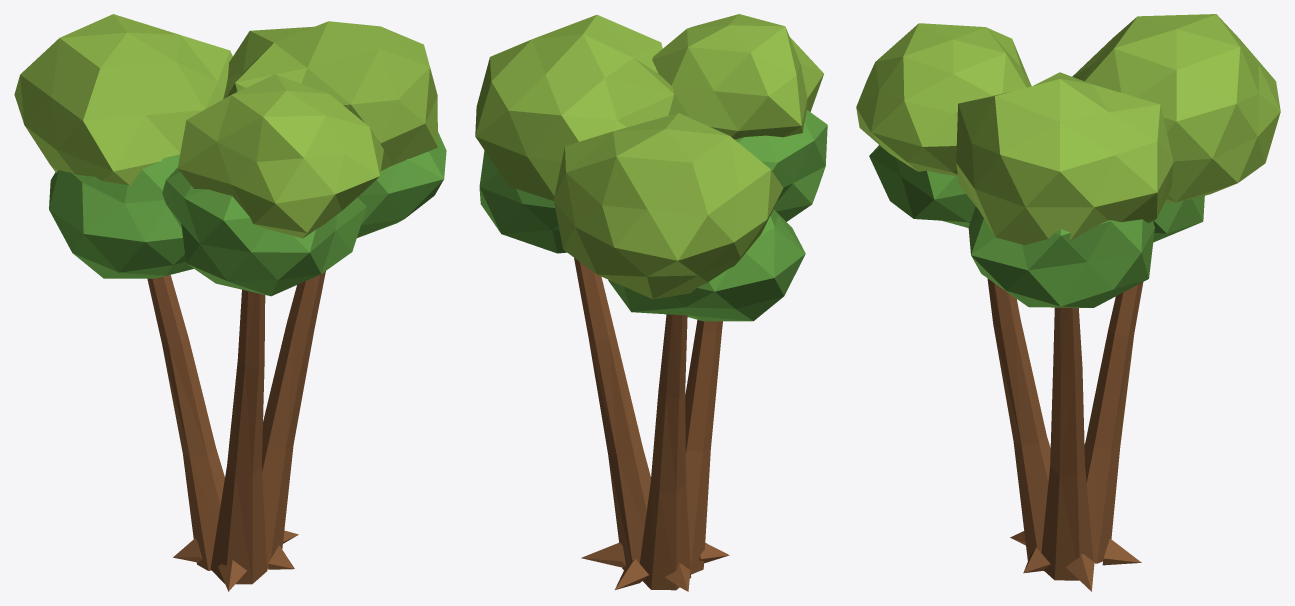
File: HS_LP_Tree_MultiTrunk_01.fbx
3 views of the same model, side by side, from view 1: azimuth 30°, elevation 25°; view 2: azimuth 150°, elevation 25°; view 3: azimuth 270°, elevation 25° (orthographic). The views are drawn at different scales.
Parts seen in each view (by area): view 1: HS_LP_Tree_MultiTrunk_01; view 2: HS_LP_Tree_MultiTrunk_01; view 3: HS_LP_Tree_MultiTrunk_01.
Boxes of the visible parts, left/top/right/bottom form: HS_LP_Tree_MultiTrunk_01: left=14, top=14, right=446, bottom=591; HS_LP_Tree_MultiTrunk_01: left=475, top=14, right=827, bottom=591; HS_LP_Tree_MultiTrunk_01: left=856, top=14, right=1280, bottom=591.
Size of the model in its own units: 284 by 422 by 308.
